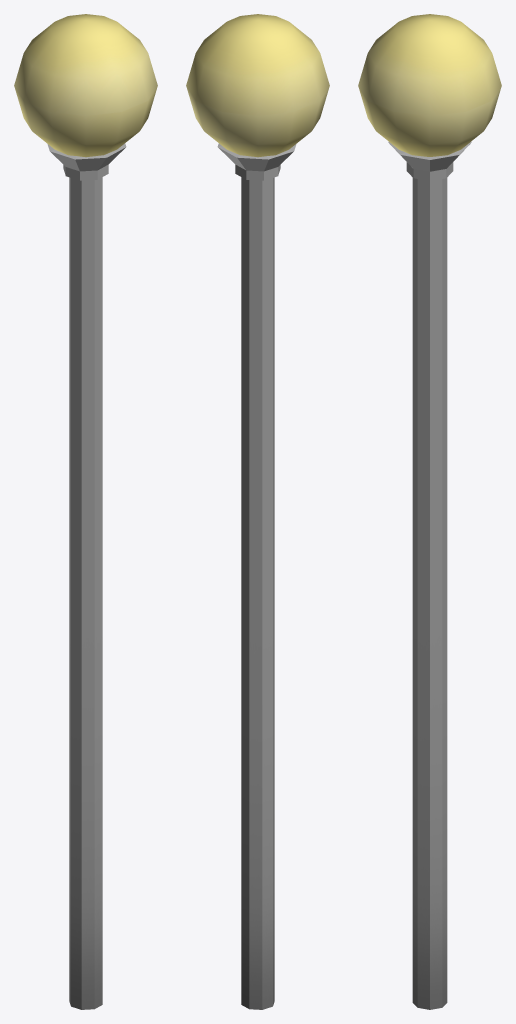
File: streetlight02_single.fbx
The picture shows the model from 3 angles, left to right: view 1: azimuth 30°, elevation 25°; view 2: azimuth 150°, elevation 25°; view 3: azimuth 270°, elevation 25°; orthographic projection.
Parts seen in each view (by area): view 1: lamp02_single1; view 2: lamp02_single1; view 3: lamp02_single1.
Part boxes in pixels (x1=…): lamp02_single1: x1=14, y1=14, x2=157, y2=1009; lamp02_single1: x1=186, y1=14, x2=329, y2=1009; lamp02_single1: x1=358, y1=14, x2=501, y2=1009.
Bounding box in the file's own units: 0.7811 × 5.89 × 0.7811.
Materials: 1 (1 with a texture image).
